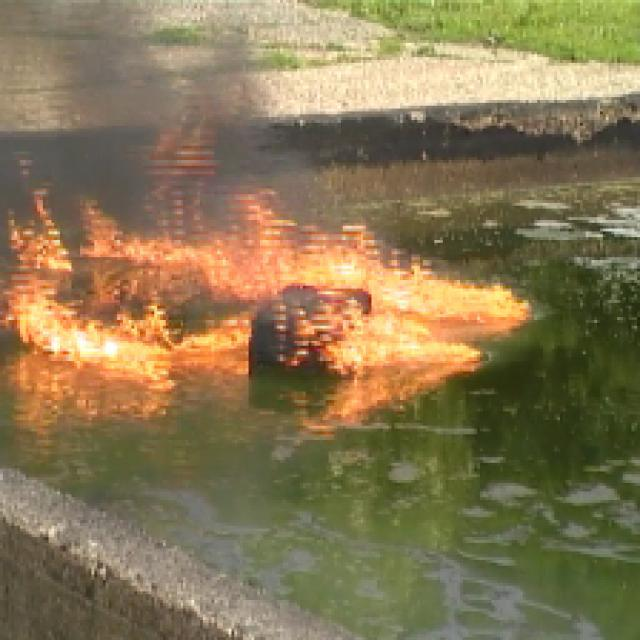Fire: (32, 216, 494, 370)
Smoke: (82, 23, 160, 164)
